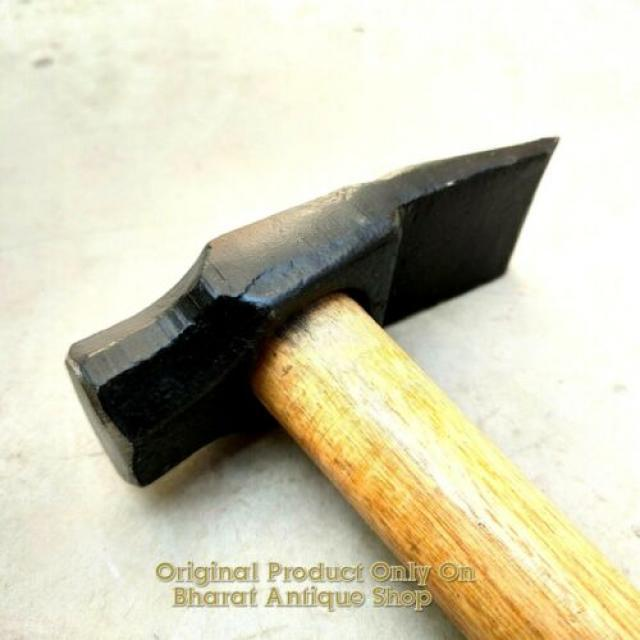hammer: (57, 129, 640, 639)
